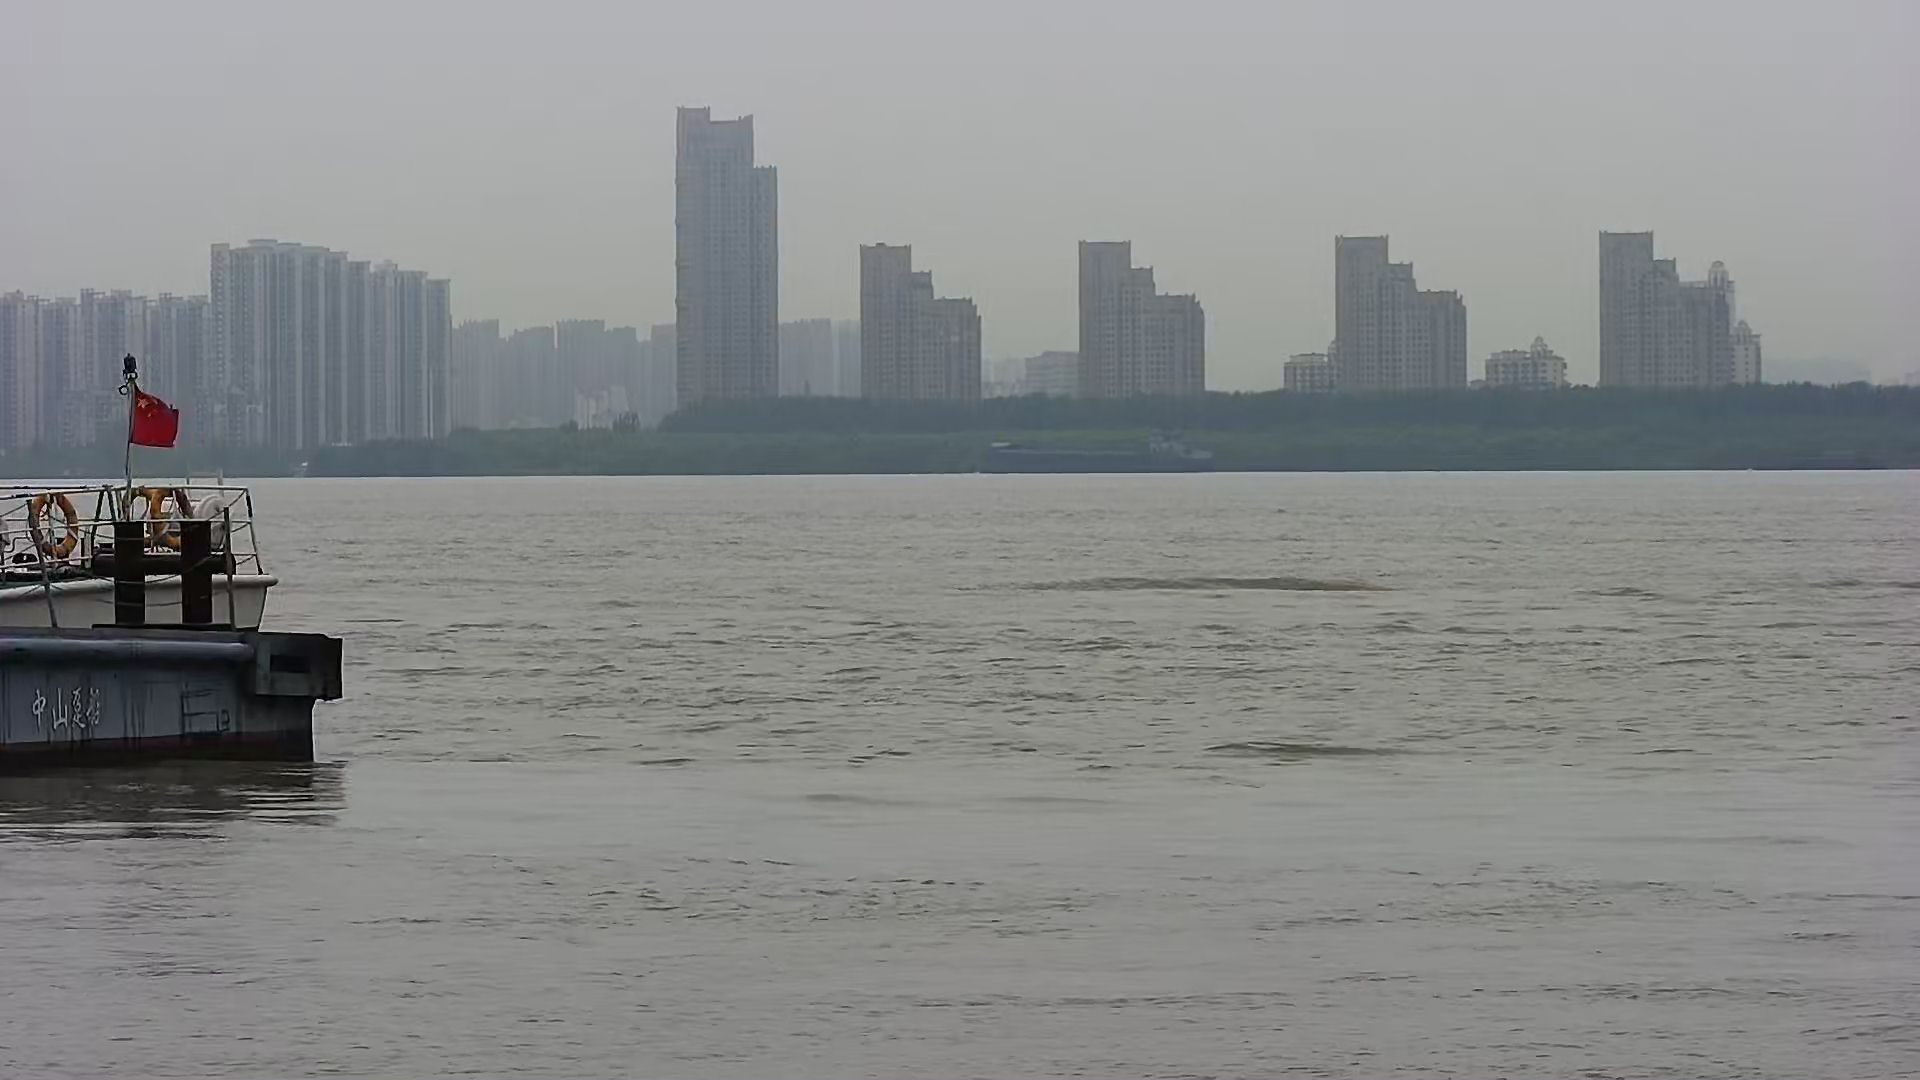ship: (1, 351, 345, 761), (968, 429, 1216, 472)
